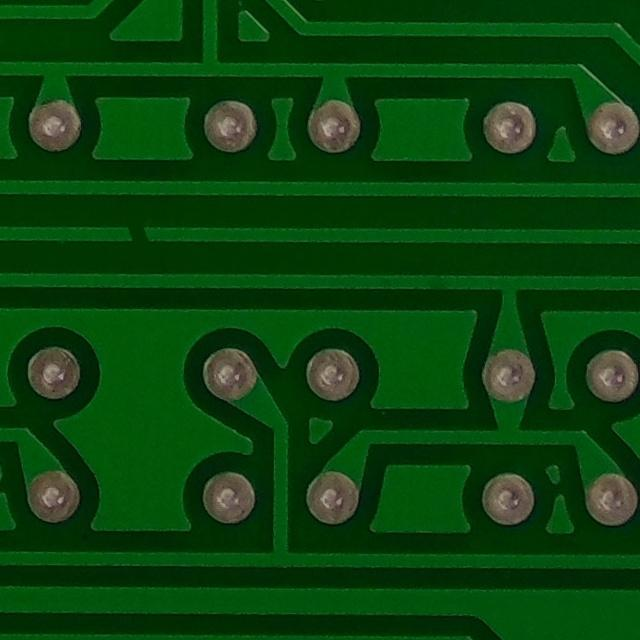open_circuit: (106, 210, 162, 259)
